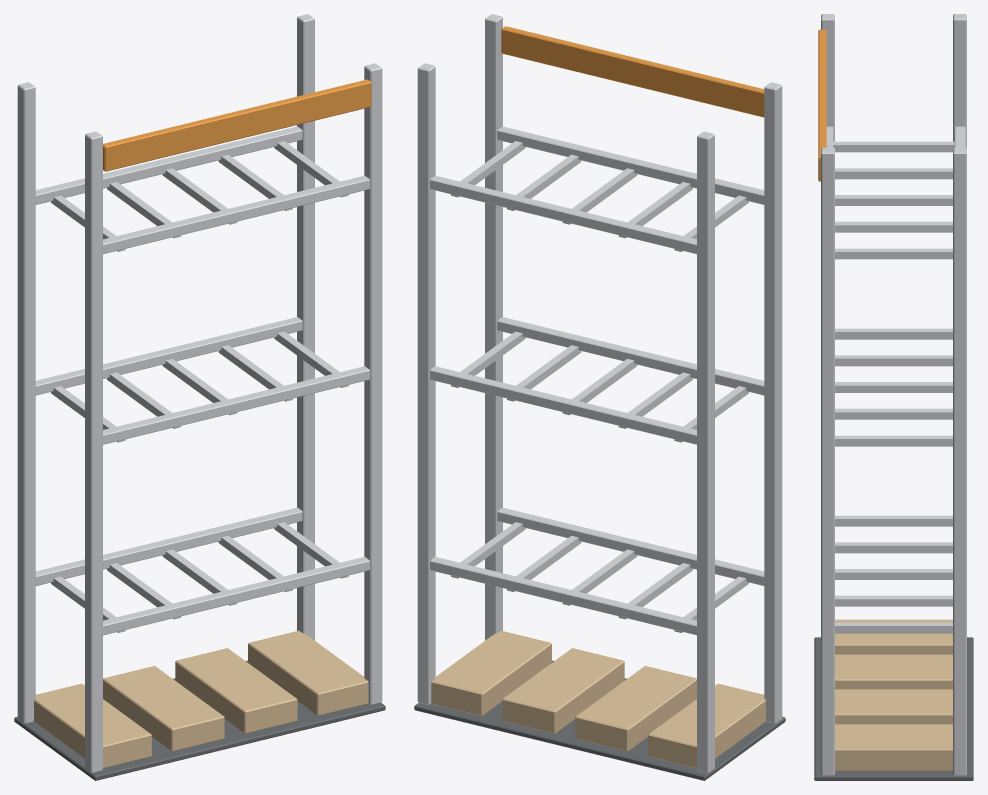
The model's file is pipe-and-dowel-tube-rack.glb.
3 views of the same model, side by side, from view 1: azimuth 30°, elevation 25°; view 2: azimuth 150°, elevation 25°; view 3: azimuth 270°, elevation 25° (orthographic).
Parts seen in each view (by area): view 1: pipe-and-dowel-tube-rack; view 2: pipe-and-dowel-tube-rack; view 3: pipe-and-dowel-tube-rack.
Boxes of the visible parts, x1,y1,x2,y2 form: pipe-and-dowel-tube-rack: [14, 14, 385, 780]; pipe-and-dowel-tube-rack: [414, 14, 785, 780]; pipe-and-dowel-tube-rack: [814, 14, 973, 780].
Bounding box in the file's own units: 1.2 × 2.52 × 0.58.
